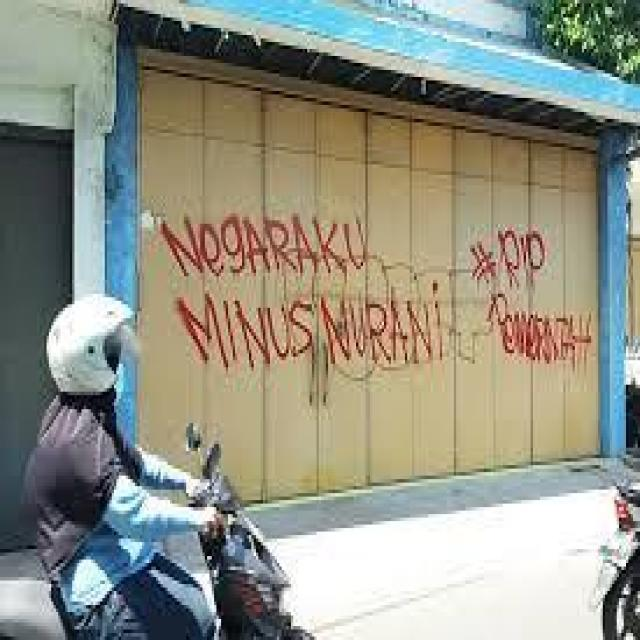nonspitting: (160, 213, 444, 375), (470, 231, 591, 371)
